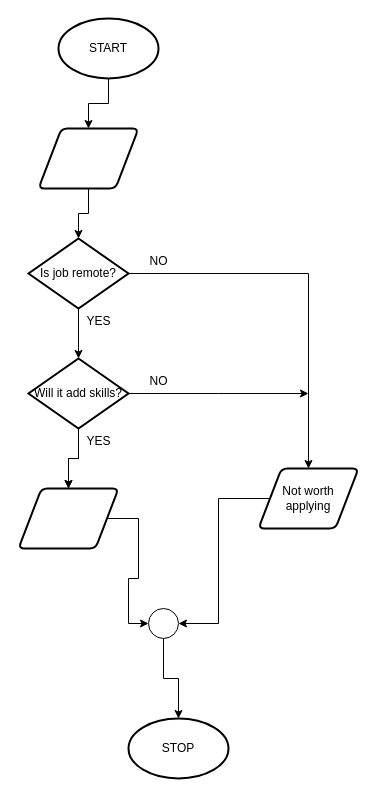
The diagram is 376 pixels wide and 796 high, and some of its shapes have lost their labels. Here are the shapes that lost their labels. From the top down, the centre of each, then its label:
point (88, 158): Enter job position
point (68, 518): Worth applying
